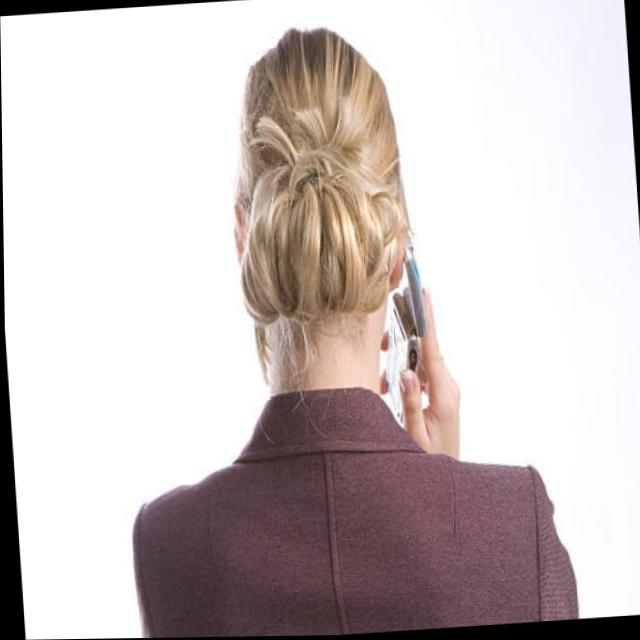no helmet: (224, 10, 424, 428)
